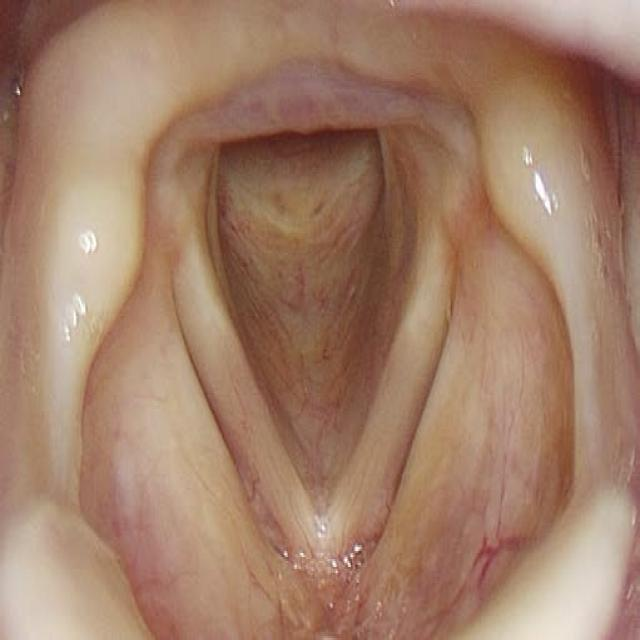arytenoid cartilagerotation: (10, 2, 612, 376)
larynxrotation: (158, 92, 462, 586)
